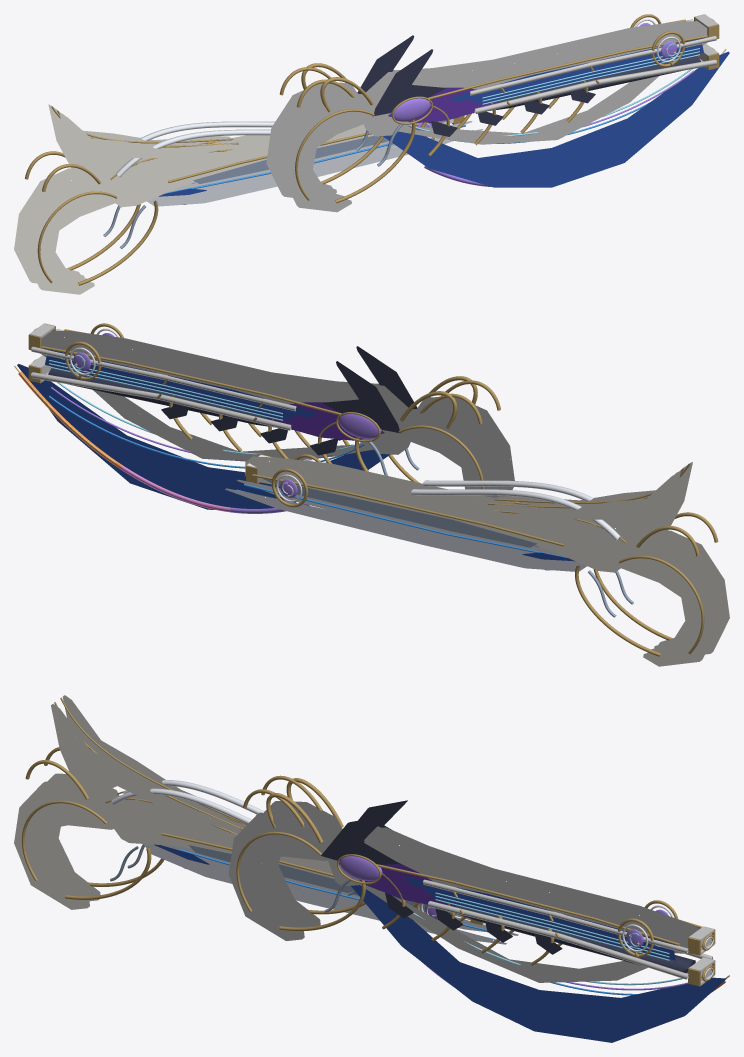
The model's file is lux_and_umbra_pair.obj.
3 renders of one model, top to bottom at view 1: azimuth 30°, elevation 25°; view 2: azimuth 150°, elevation 25°; view 3: azimuth 330°, elevation 25°, orthographic. The views are drawn at different scales.
Parts seen in each view (by area): view 1: lux_and_umbra_pair; view 2: lux_and_umbra_pair; view 3: lux_and_umbra_pair.
Boxes of the visible parts, x1,y1,x2,y2 form: lux_and_umbra_pair: [14, 14, 729, 294]; lux_and_umbra_pair: [14, 323, 729, 666]; lux_and_umbra_pair: [14, 695, 729, 1042].
Bounding box in the file's own units: 1.53 × 0.4032 × 0.2.
